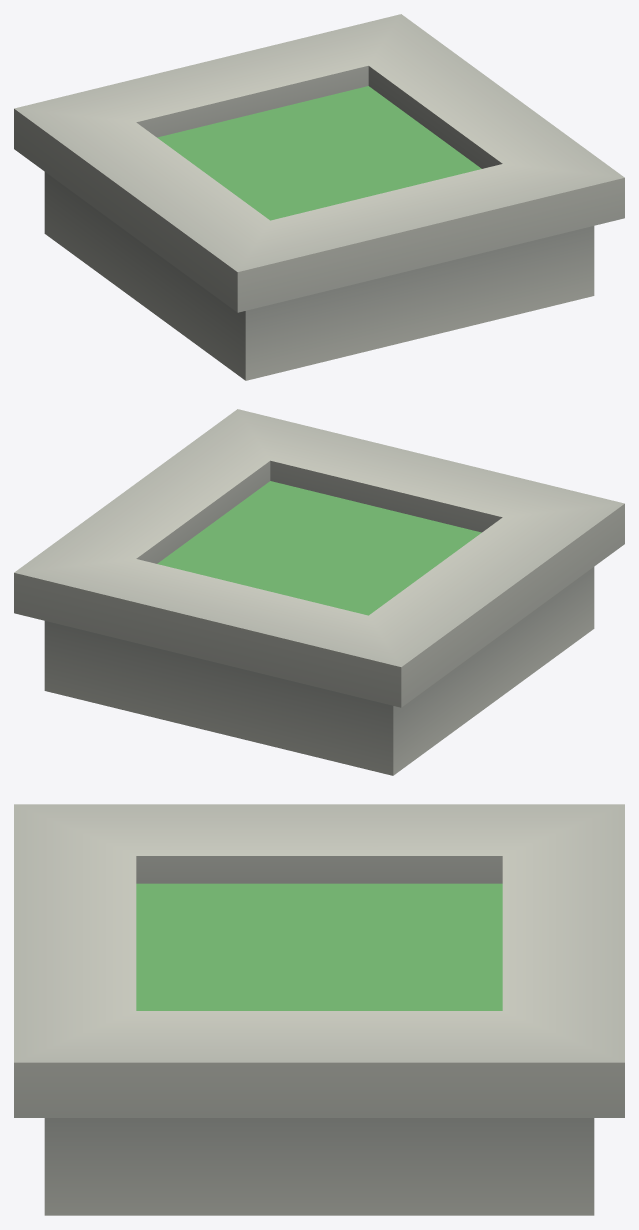
The model's file is Planter_Full_Medium_01.fbx.
The picture shows the model from 3 angles, top to bottom: view 1: azimuth 30°, elevation 25°; view 2: azimuth 150°, elevation 25°; view 3: azimuth 270°, elevation 25°; orthographic projection. The views are drawn at different scales.
Visible parts, largest first — view 1: Planter_Full_Medium_01; view 2: Planter_Full_Medium_01; view 3: Planter_Full_Medium_01.
Boxes of the visible parts, x1,y1,x2,y2 form: Planter_Full_Medium_01: (14,14,624,380); Planter_Full_Medium_01: (14,409,624,775); Planter_Full_Medium_01: (14,804,624,1215).
Bounding box in the file's own units: 200 × 60 × 200.
